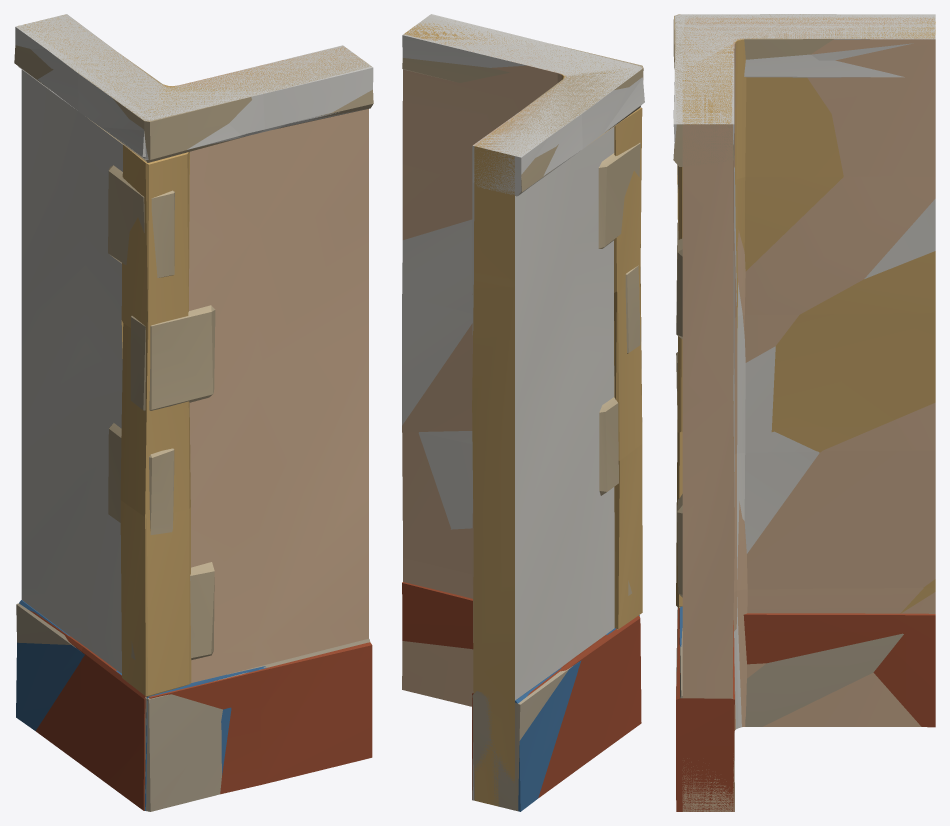
Rendered from corner.outer.glb.
3 renders of one model, left to right at view 1: azimuth 30°, elevation 25°; view 2: azimuth 150°, elevation 25°; view 3: azimuth 270°, elevation 25°, orthographic. The views are drawn at different scales.
Parts seen in each view (by area): view 1: corner.outer.v2.mesh, corner.outer.v0.mesh, corner.outer.v1.mesh; view 2: corner.outer.v0.mesh, corner.outer.v2.mesh, corner.outer.v1.mesh; view 3: corner.outer.v2.mesh, corner.outer.v1.mesh, corner.outer.v0.mesh.
Part boxes in pixels (x1,y1,x2,y2): corner.outer.v2.mesh: [14, 14, 373, 810]; corner.outer.v0.mesh: [15, 14, 373, 810]; corner.outer.v1.mesh: [16, 15, 371, 811]; corner.outer.v0.mesh: [402, 14, 644, 811]; corner.outer.v2.mesh: [402, 21, 643, 799]; corner.outer.v1.mesh: [402, 15, 642, 811]; corner.outer.v2.mesh: [673, 14, 935, 811]; corner.outer.v1.mesh: [675, 14, 935, 726]; corner.outer.v0.mesh: [673, 14, 935, 729].
Size of the model in its own units: 1.04 by 3 by 1.04.
